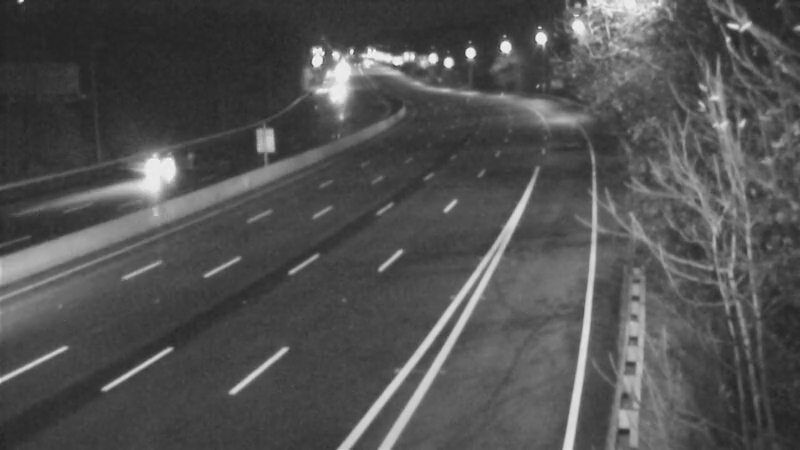vehicle: (119, 126, 199, 206)
